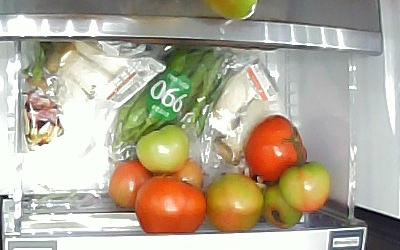tomato: (244, 115, 310, 184), (135, 175, 206, 234), (206, 172, 266, 232), (135, 123, 190, 174), (279, 162, 332, 214), (107, 161, 153, 210), (262, 185, 304, 230), (172, 162, 205, 191)
